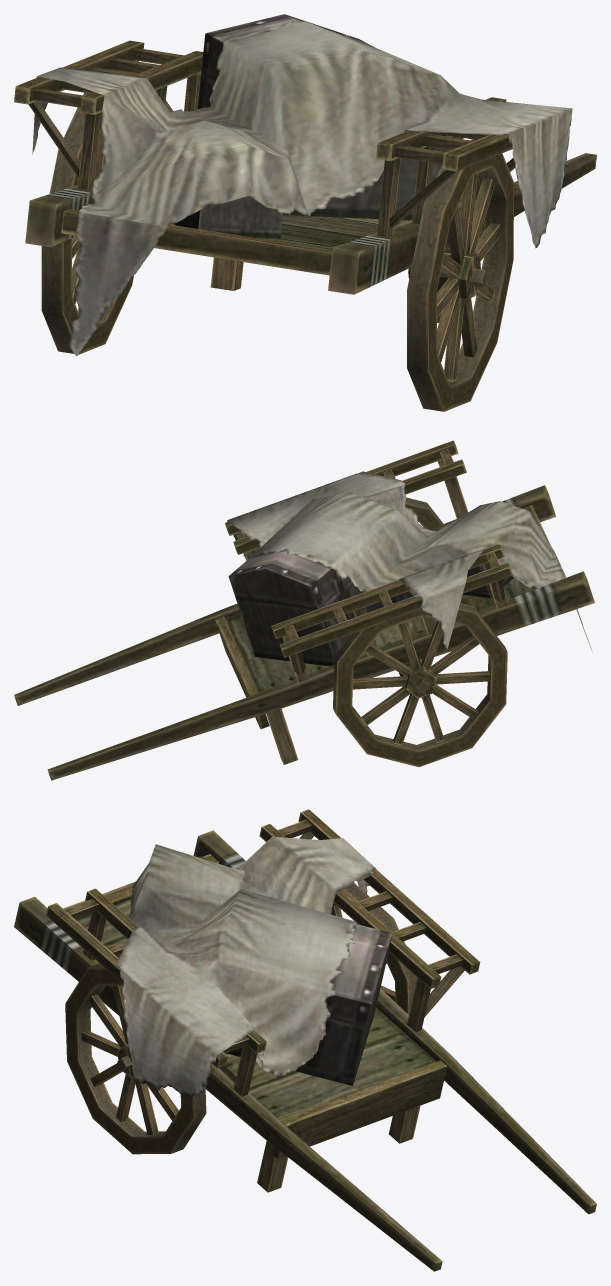
The model's file is wlf_tuiche01_w.FBX.
3 views of the same model, one above another, from view 1: azimuth 30°, elevation 25°; view 2: azimuth 150°, elevation 25°; view 3: azimuth 270°, elevation 25° (orthographic). The views are drawn at different scales.
Visible parts, largest first — view 1: wlf_tuiche01_w; view 2: wlf_tuiche01_w; view 3: wlf_tuiche01_w.
Boxes of the visible parts, x1,y1,x2,y2 form: wlf_tuiche01_w: (14, 14, 596, 411); wlf_tuiche01_w: (14, 440, 594, 780); wlf_tuiche01_w: (14, 809, 596, 1271).
Bounding box in the file's own units: 42.31 × 17.74 × 40.11.
